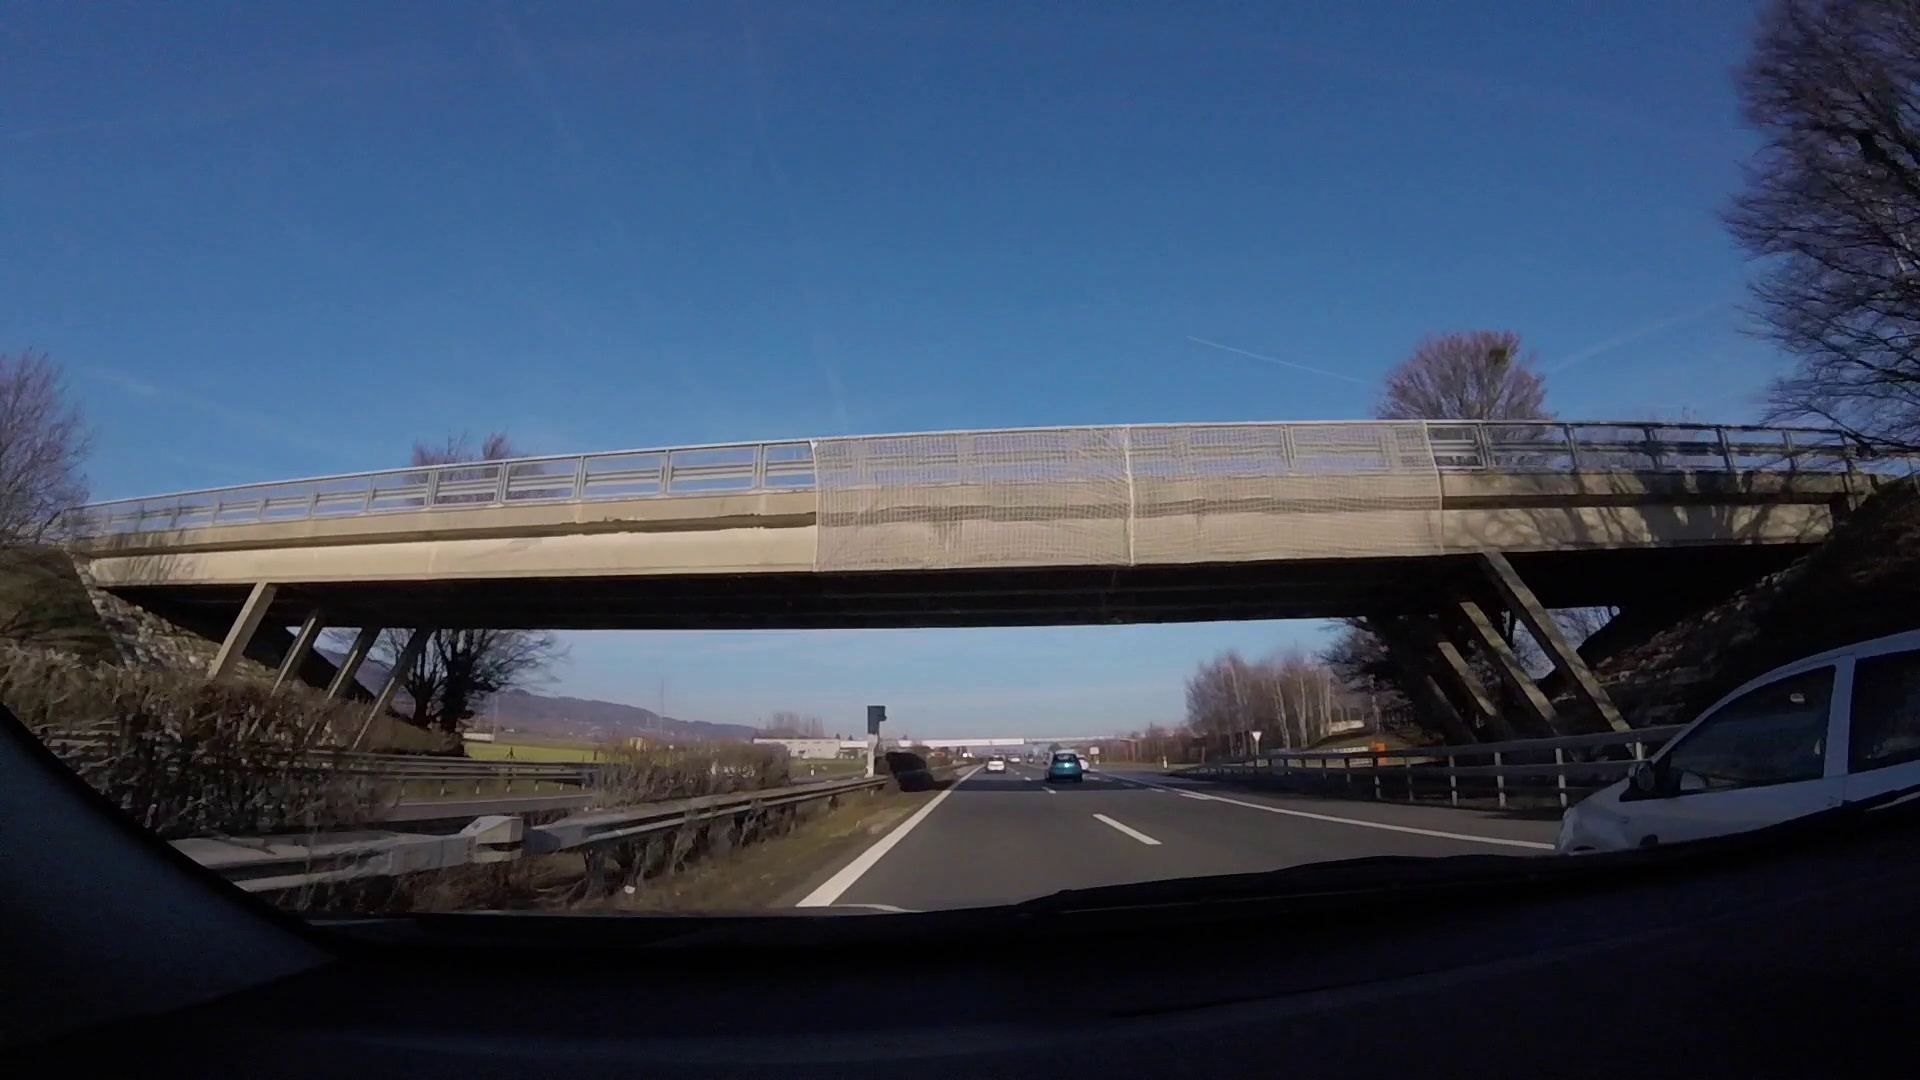radar: (865, 704, 890, 779)
